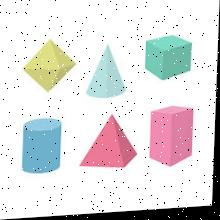cube: (145, 37, 194, 83)
